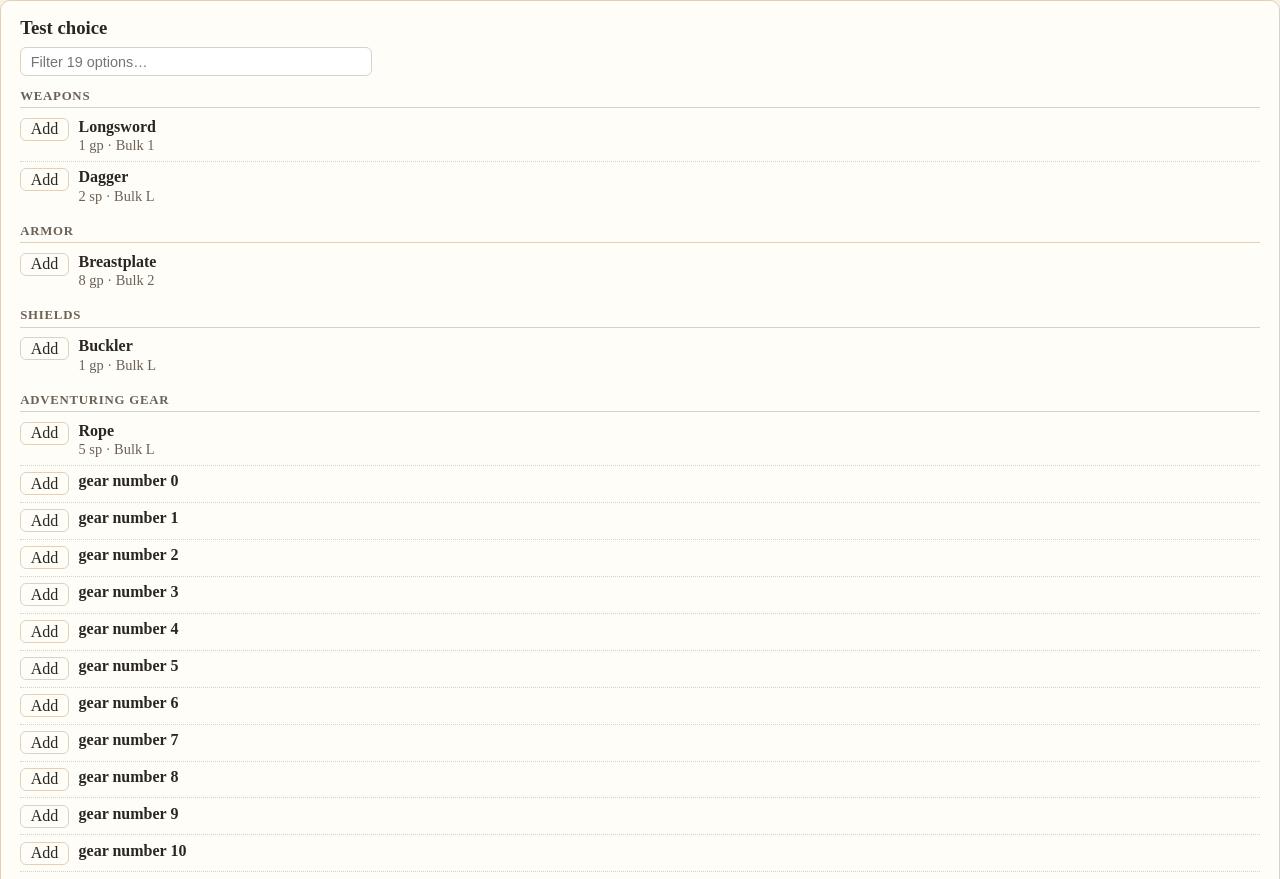
Scenario: shopping-list category grouping › filters across every group and drops emptied headers
The image size is (1280, 879).
Type "buckler" into the search field with test id "option-filter" showing "Filter 19 options…". click: point(196, 62)
box: top-left (20, 47), bottom-right (372, 76)
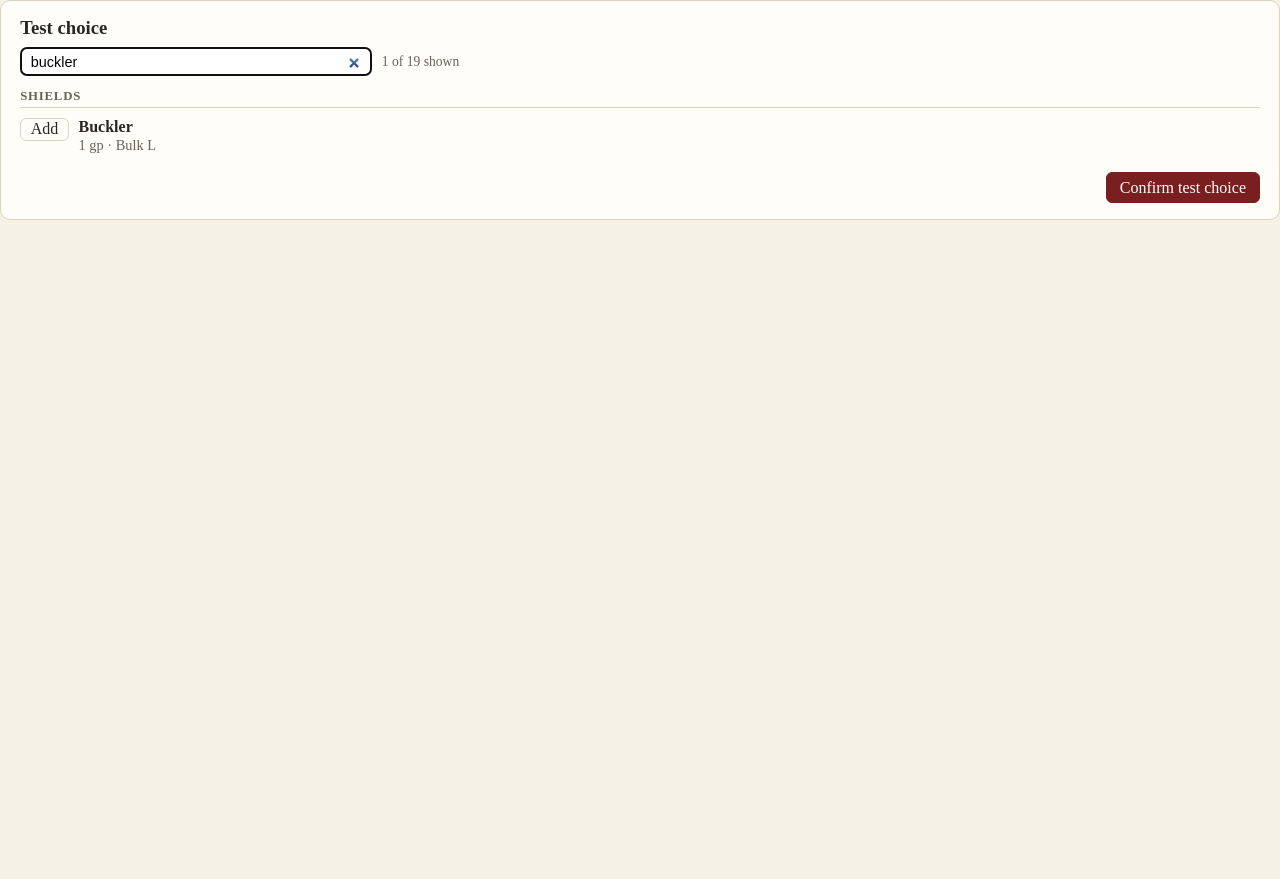
expect the text "Buckler" is shown: met, box top-left (78, 118), bottom-right (133, 135)
expect the headings read "Shields", in this order: met, box top-left (20, 89), bottom-right (1260, 108)
expect the text "Longsword" is gone: met
